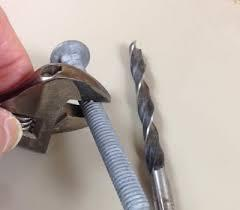wrench: (1, 60, 113, 155)
